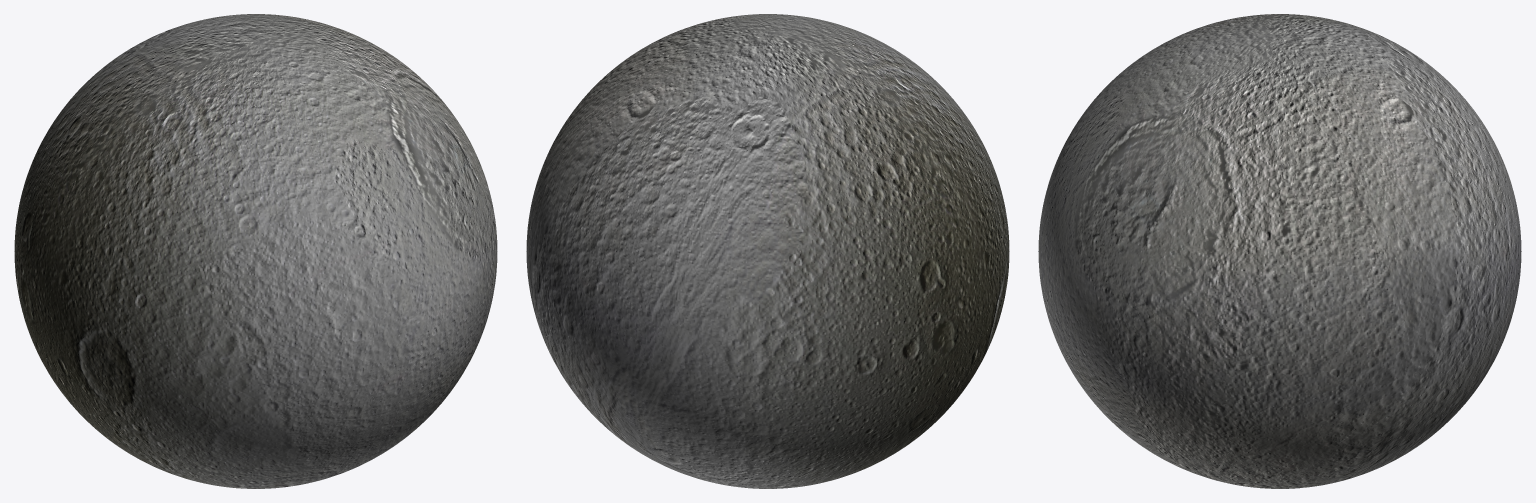
Rendered from tethys.glb.
The picture shows the model from 3 angles, left to right: view 1: azimuth 30°, elevation 25°; view 2: azimuth 150°, elevation 25°; view 3: azimuth 270°, elevation 25°; orthographic projection.
Visible parts, largest first — view 1: cylindrically_mapped_sphere; view 2: cylindrically_mapped_sphere; view 3: cylindrically_mapped_sphere.
Part boxes in pixels (x1=…): cylindrically_mapped_sphere: x1=14, y1=14, x2=497, y2=488; cylindrically_mapped_sphere: x1=526, y1=14, x2=1009, y2=488; cylindrically_mapped_sphere: x1=1038, y1=14, x2=1521, y2=488.
Bounding box in the file's own units: 1000 × 980 × 1000.
1 material, 1 textured.
